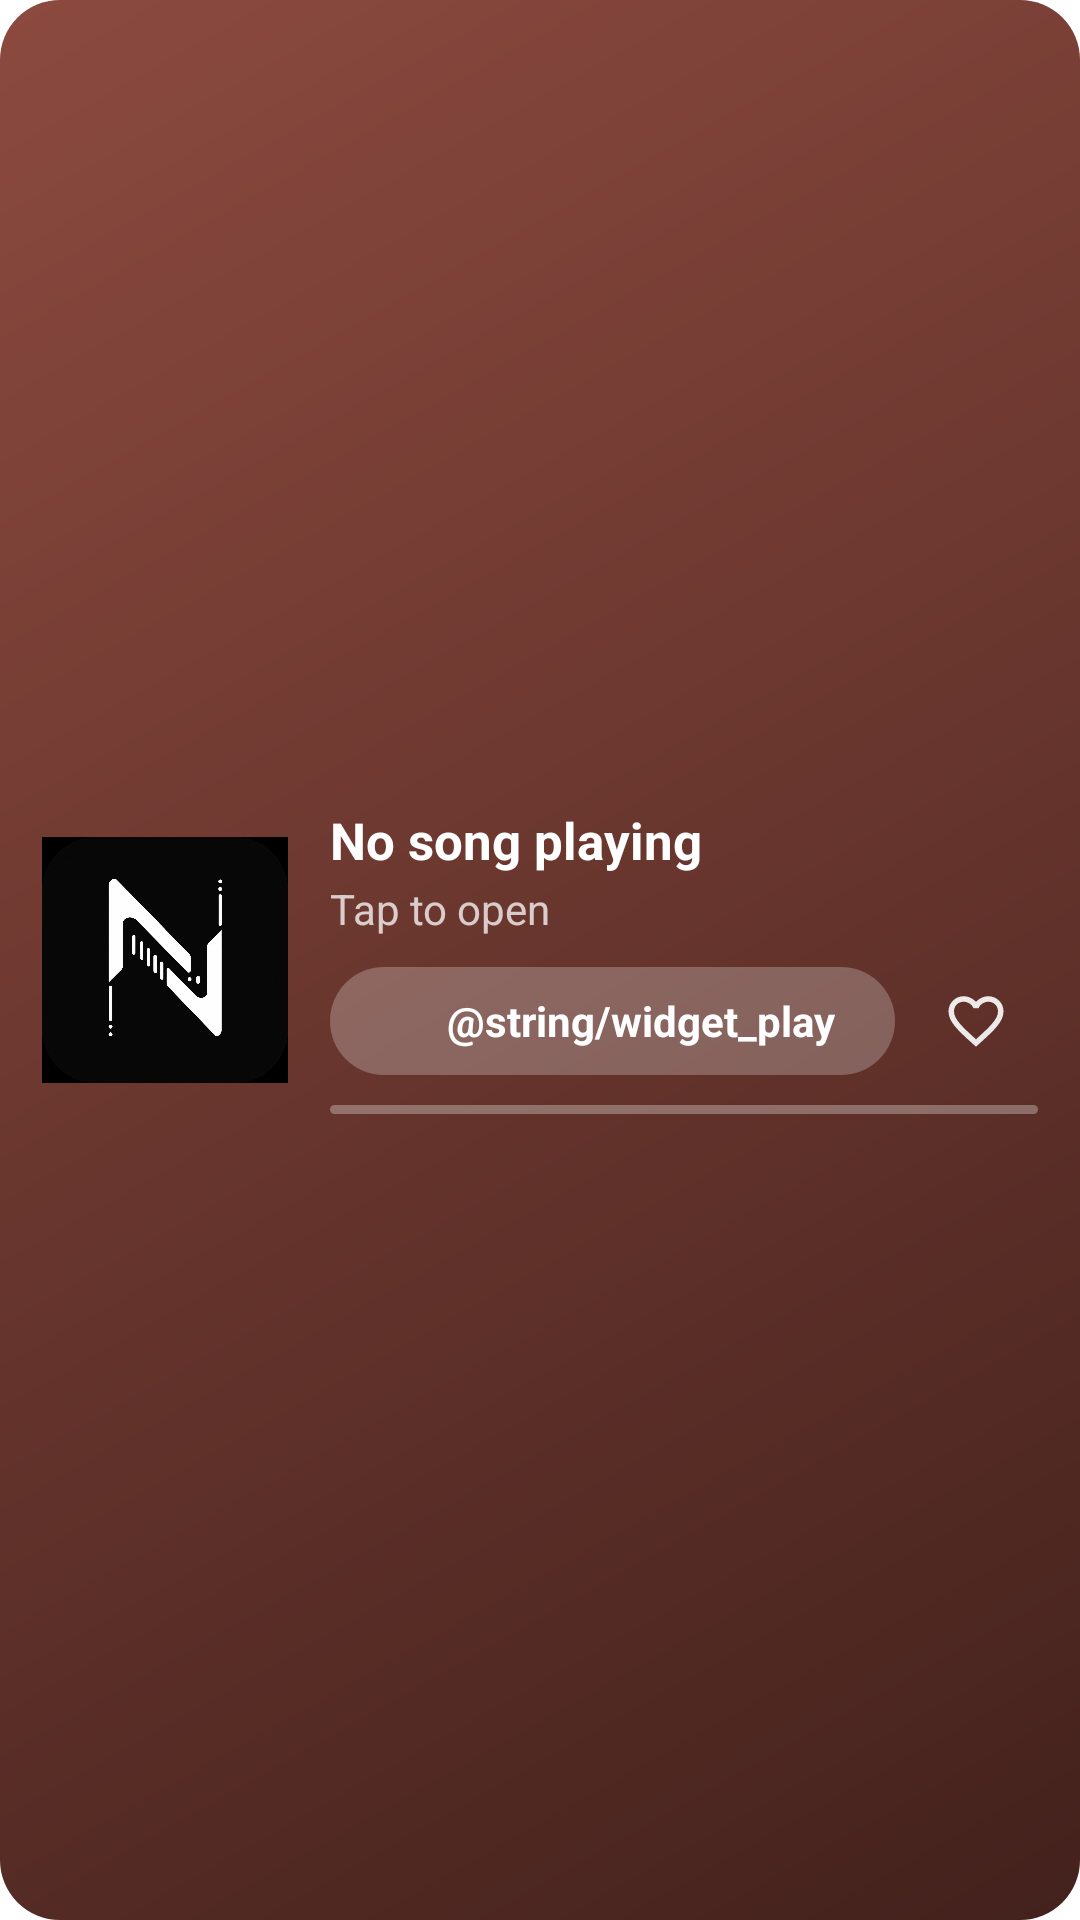

Point at icon controls on the screen. Image size 1080 × 1920, points as (x,y).
Like: (976,1021)
